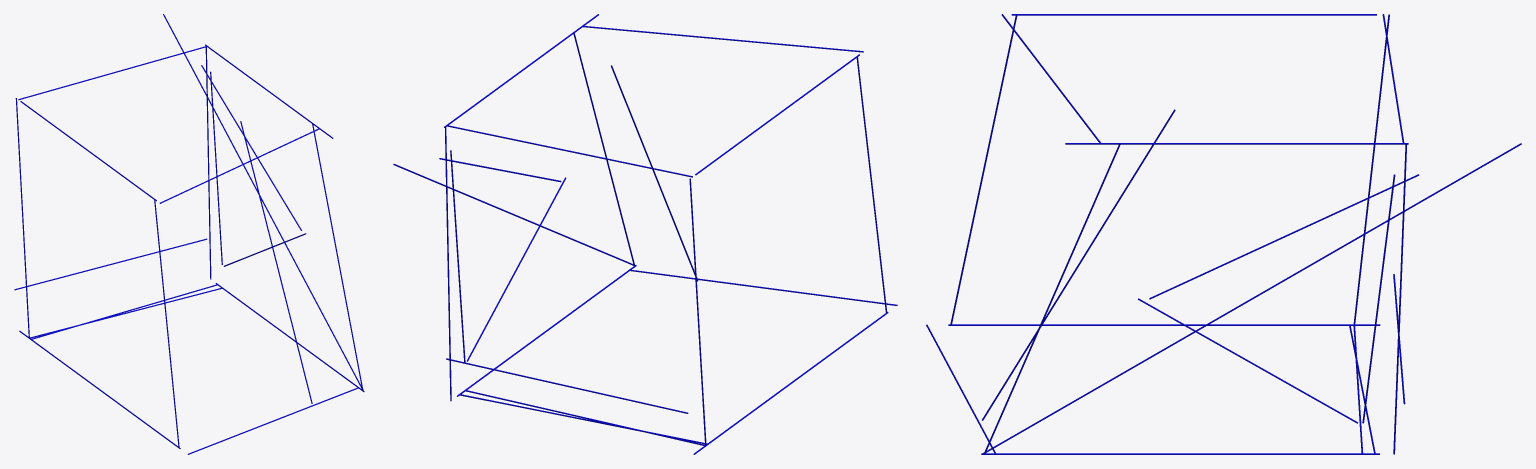
File: corrected_3d_strokes.glb
3 renders of one model, left to right at view 1: azimuth 30°, elevation 25°; view 2: azimuth 150°, elevation 25°; view 3: azimuth 270°, elevation 25°, orthographic. The views are drawn at different scales.
Visible parts, largest first — view 1: world; view 2: world; view 3: world.
Boxes of the visible parts, box(x1,y1,x2,y2) form: world: box(14, 14, 364, 454); world: box(393, 14, 897, 454); world: box(926, 14, 1521, 454).
Size of the model in its own units: 7.14 by 8.01 by 13.87.
